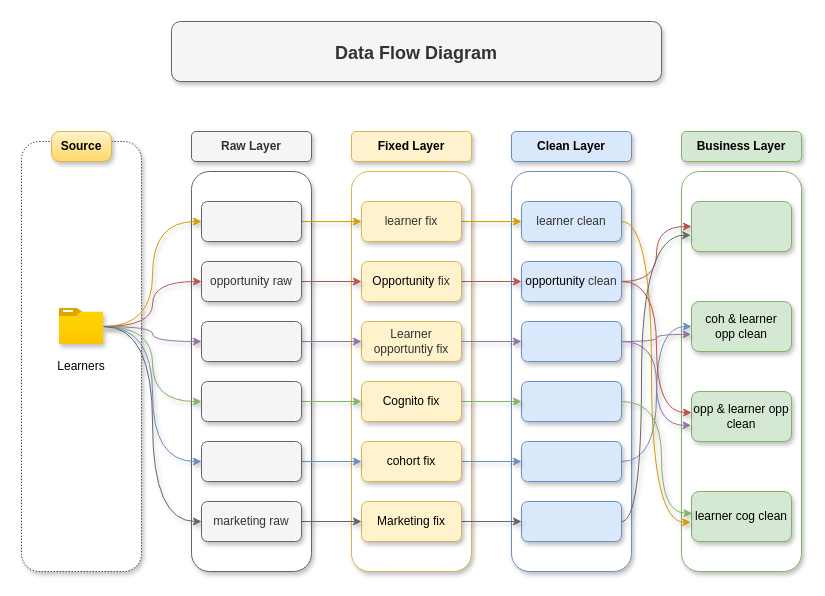
Image size: 825x596. Some labels were removed from this diagram. The shapes that lost their labels are listed below. From the top down, each one's centre as x and y in pixels, then its label:
the point at 252,222: learner raw
the point at 742,227: marketing opp clean
the point at 252,342: learner opp raw
the point at 572,342: learner opp clean
the point at 252,402: cognito raw
the point at 572,402: cognito clean
the point at 252,462: cohort raw
the point at 572,462: cohort clean
the point at 572,522: Marketing clean
